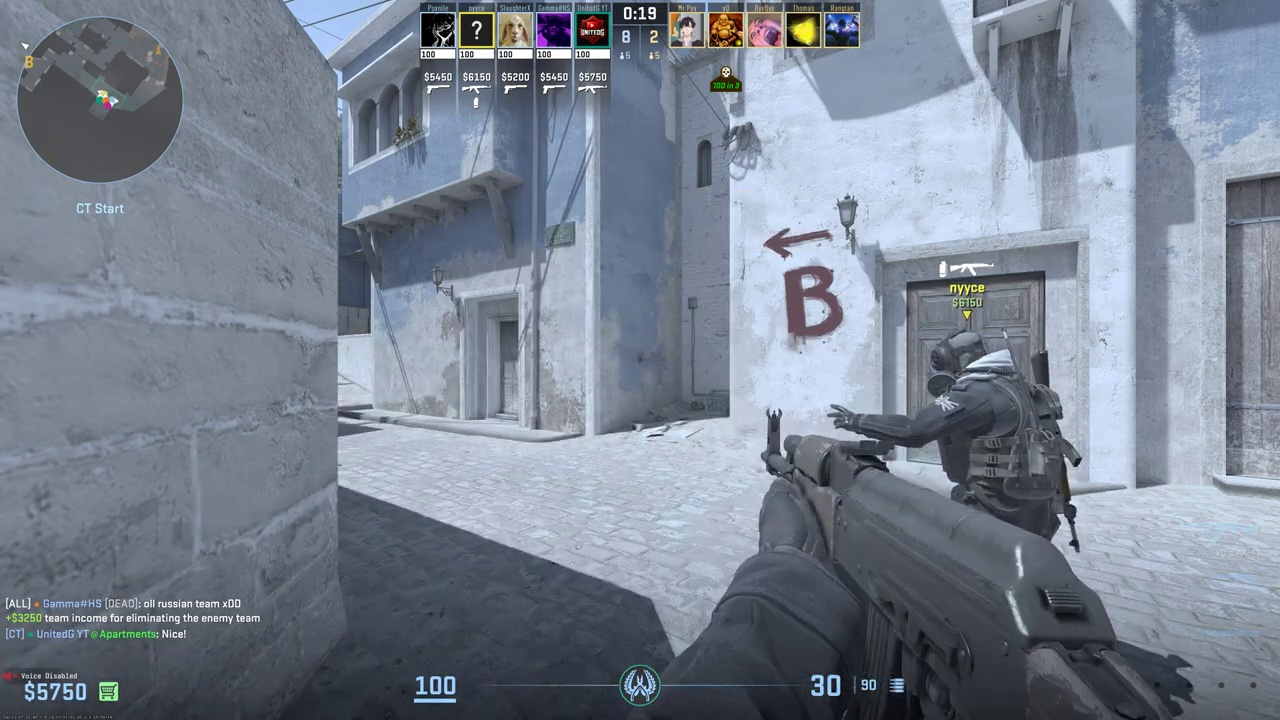CT: (933, 327, 1066, 541)
